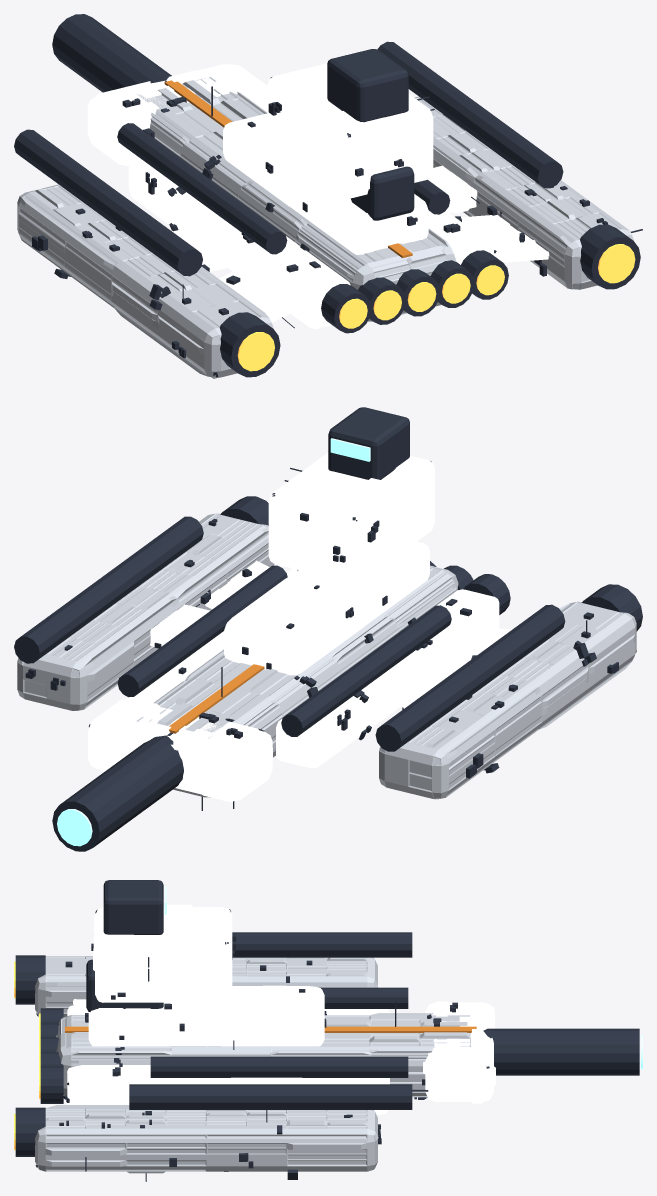
File: humans_titan.glb
3 renders of one model, top to bottom at view 1: azimuth 30°, elevation 25°; view 2: azimuth 150°, elevation 25°; view 3: azimuth 270°, elevation 25°, orthographic. The views are drawn at different scales.
Parts seen in each view (by area): view 1: humans_titan; view 2: humans_titan; view 3: humans_titan.
Boxes of the visible parts, box(x1,y1,x2,y2) form: humans_titan: box(14, 14, 642, 378); humans_titan: box(14, 407, 642, 851); humans_titan: box(14, 880, 642, 1181).
Bounding box in the file's own units: 7.43 × 3.82 × 10.
